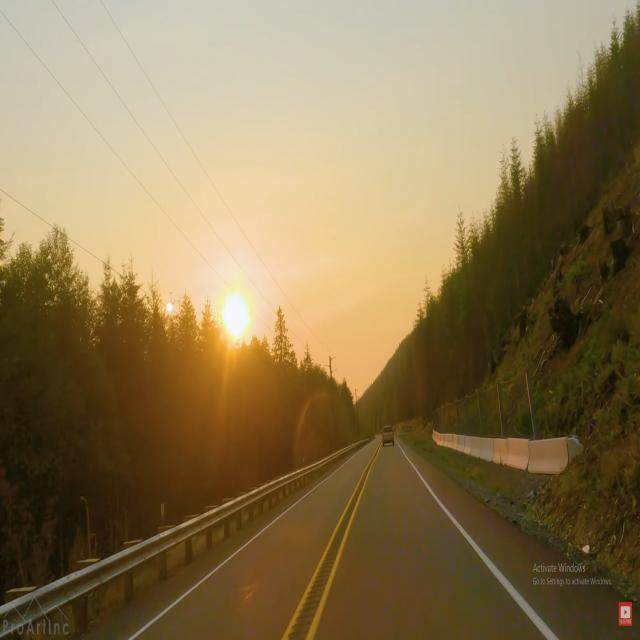sun: (215, 278, 257, 348)
